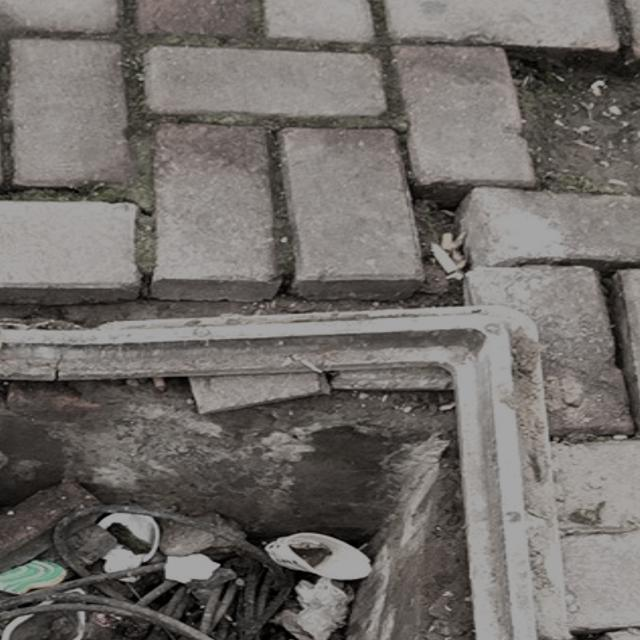lose: (0, 302, 563, 640)
